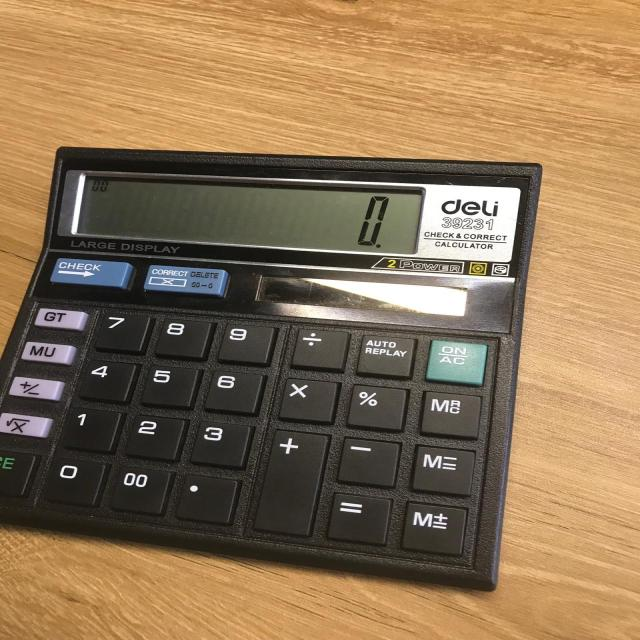calculator: (1, 144, 543, 592)
